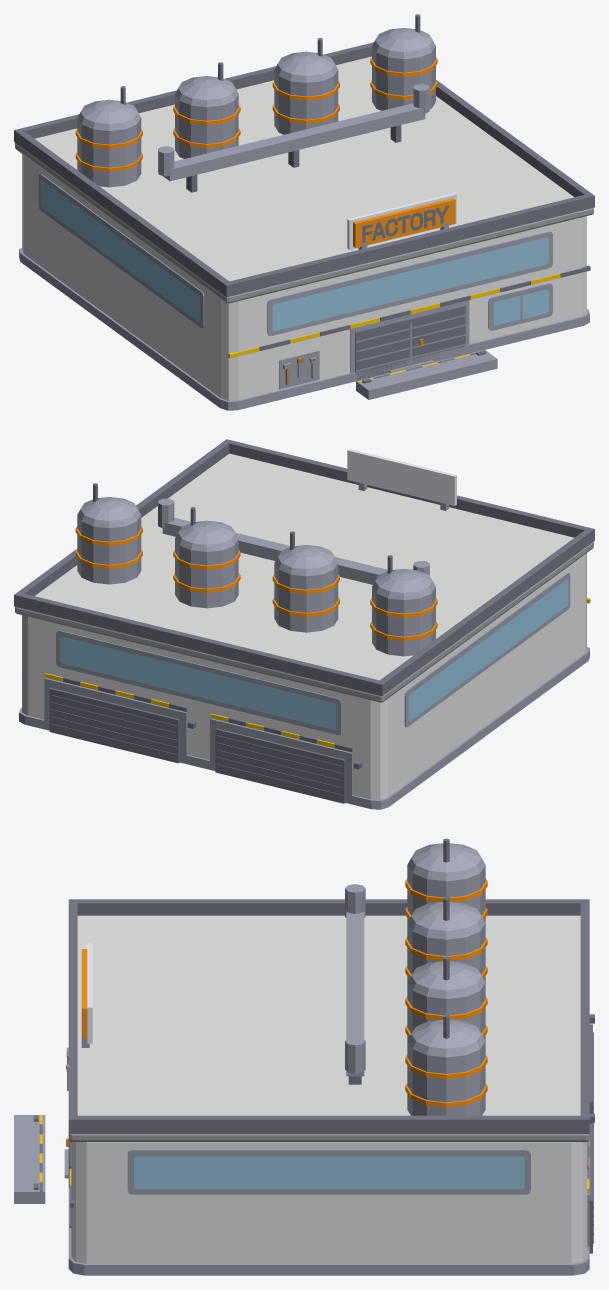
File: factory-2x2-t4-tone-a.glb
The picture shows the model from 3 angles, top to bottom: view 1: azimuth 30°, elevation 25°; view 2: azimuth 150°, elevation 25°; view 3: azimuth 270°, elevation 25°; orthographic projection. The views are drawn at different scales.
Visible parts, largest first — view 1: factory-2x2-t4-tone-a; view 2: factory-2x2-t4-tone-a; view 3: factory-2x2-t4-tone-a.
Boxes of the visible parts, box(x1,y1,x2,y2) form: factory-2x2-t4-tone-a: box(14, 14, 594, 410); factory-2x2-t4-tone-a: box(14, 439, 594, 809); factory-2x2-t4-tone-a: box(14, 838, 594, 1275).
Bounding box in the file's own units: 2 × 1.04 × 2.23.
Materials: 1 (1 with a texture image).
